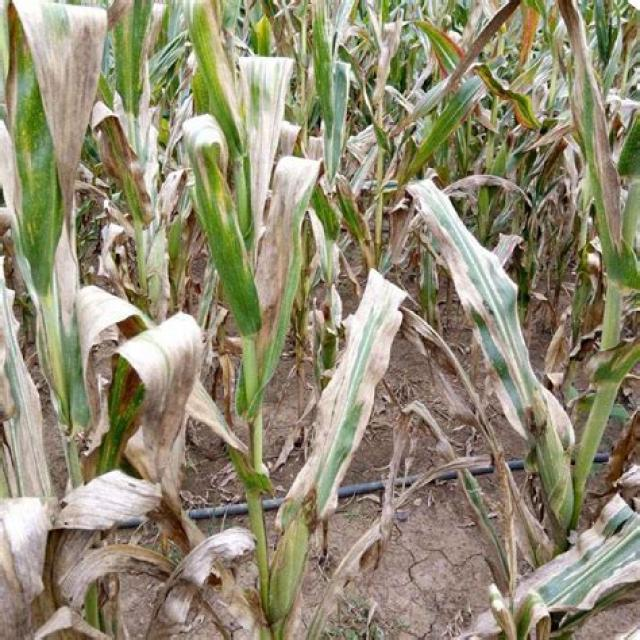blight: (462, 243, 504, 328), (368, 298, 394, 348)
